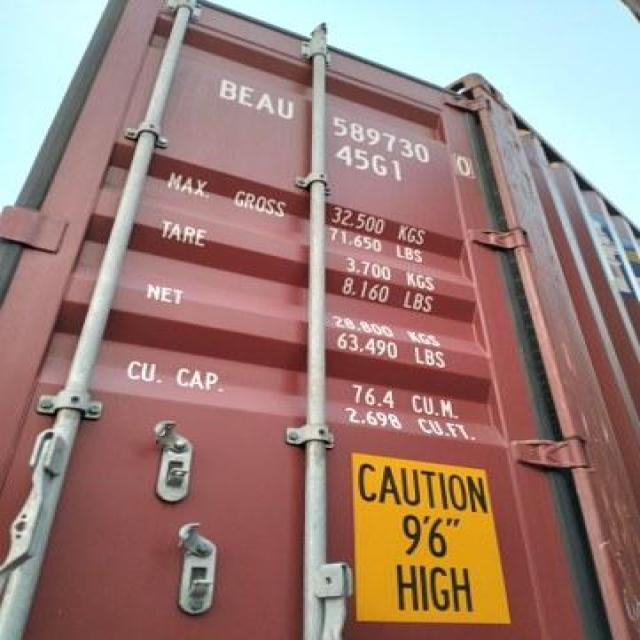ISO: (330, 143, 419, 192), (398, 513, 462, 538)
container_number: (202, 63, 486, 174), (361, 470, 483, 510)
